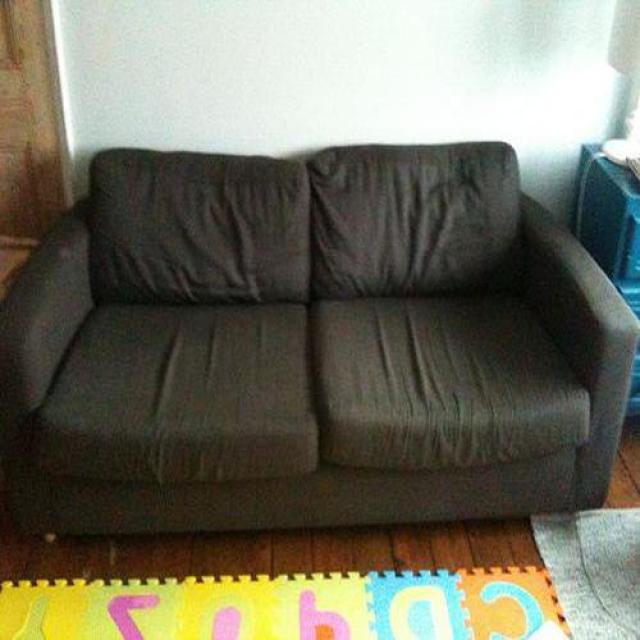sofa: (0, 142, 640, 548)
